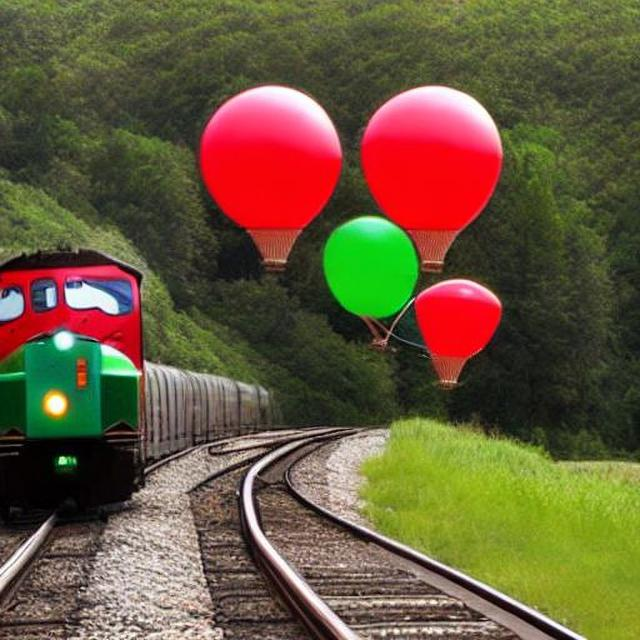balloon: (318, 87, 505, 326), (188, 80, 356, 286), (405, 272, 503, 392)
